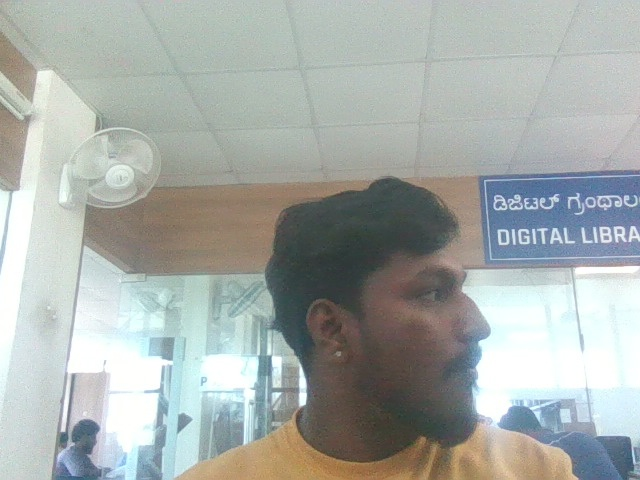real: (323, 173, 498, 421)
